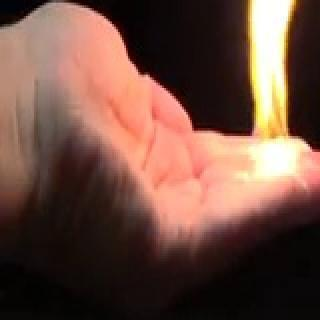fire: (228, 0, 302, 207)
